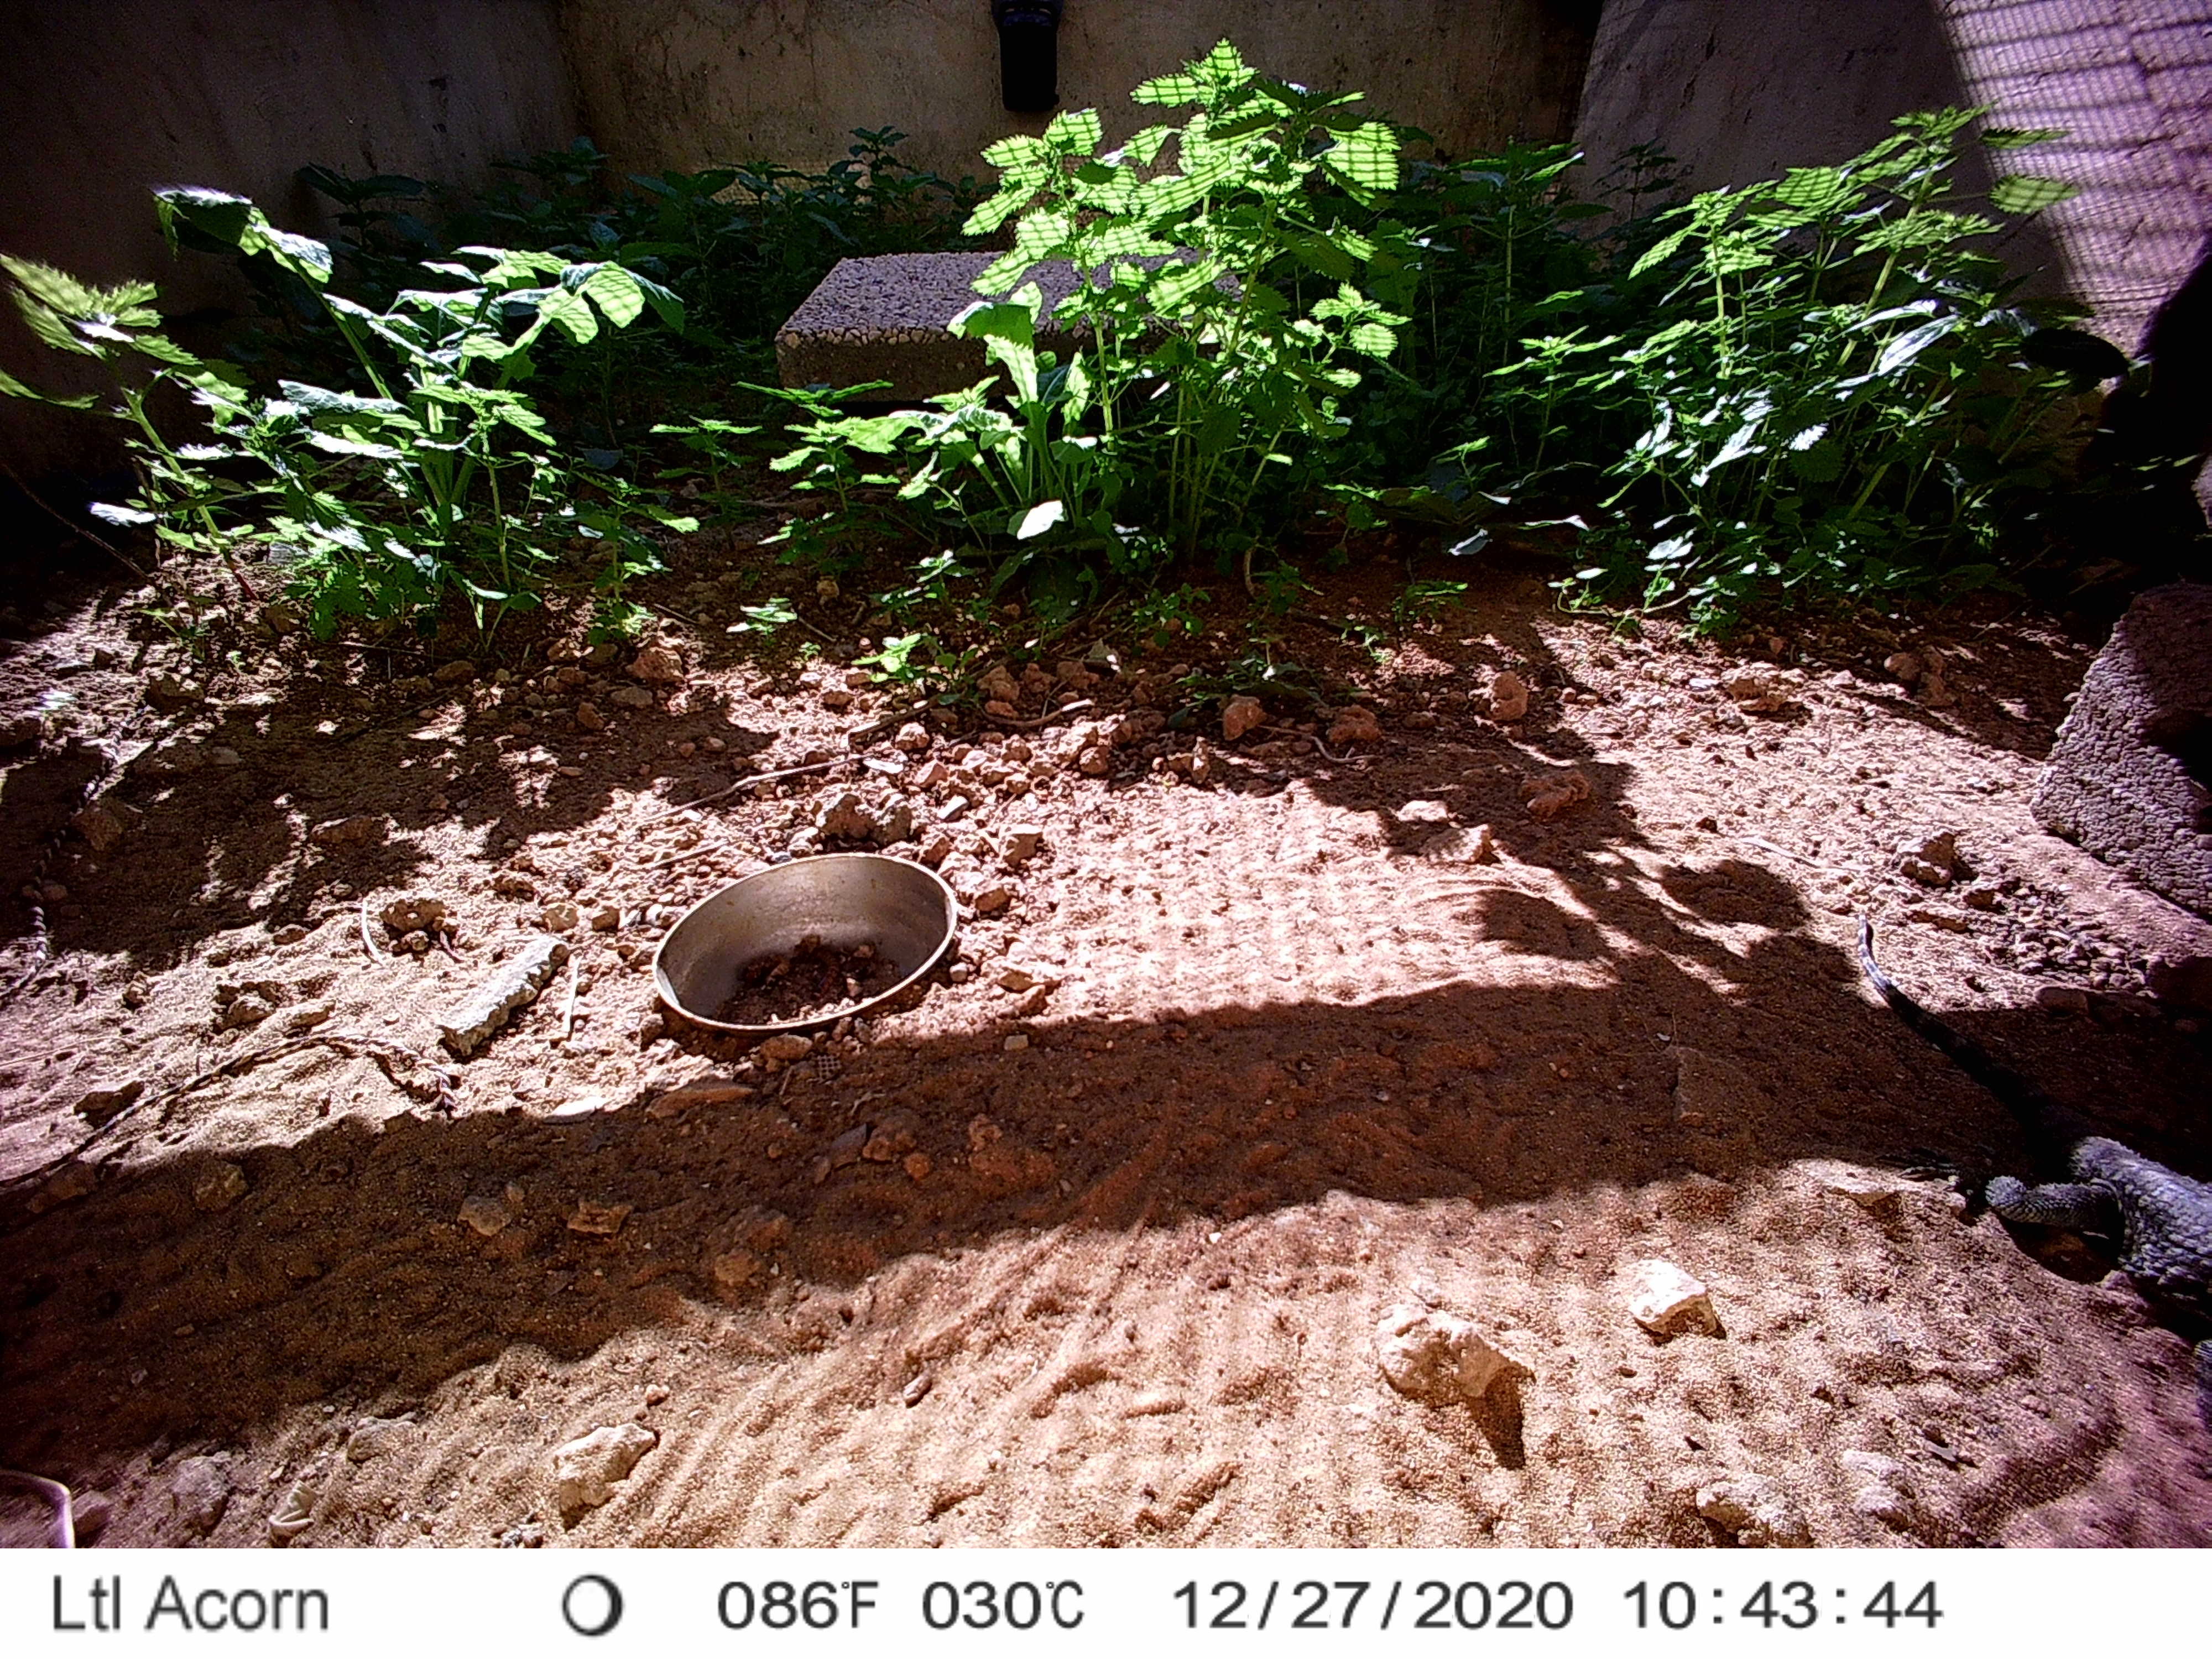lizard: (1851, 906, 2212, 1380)
